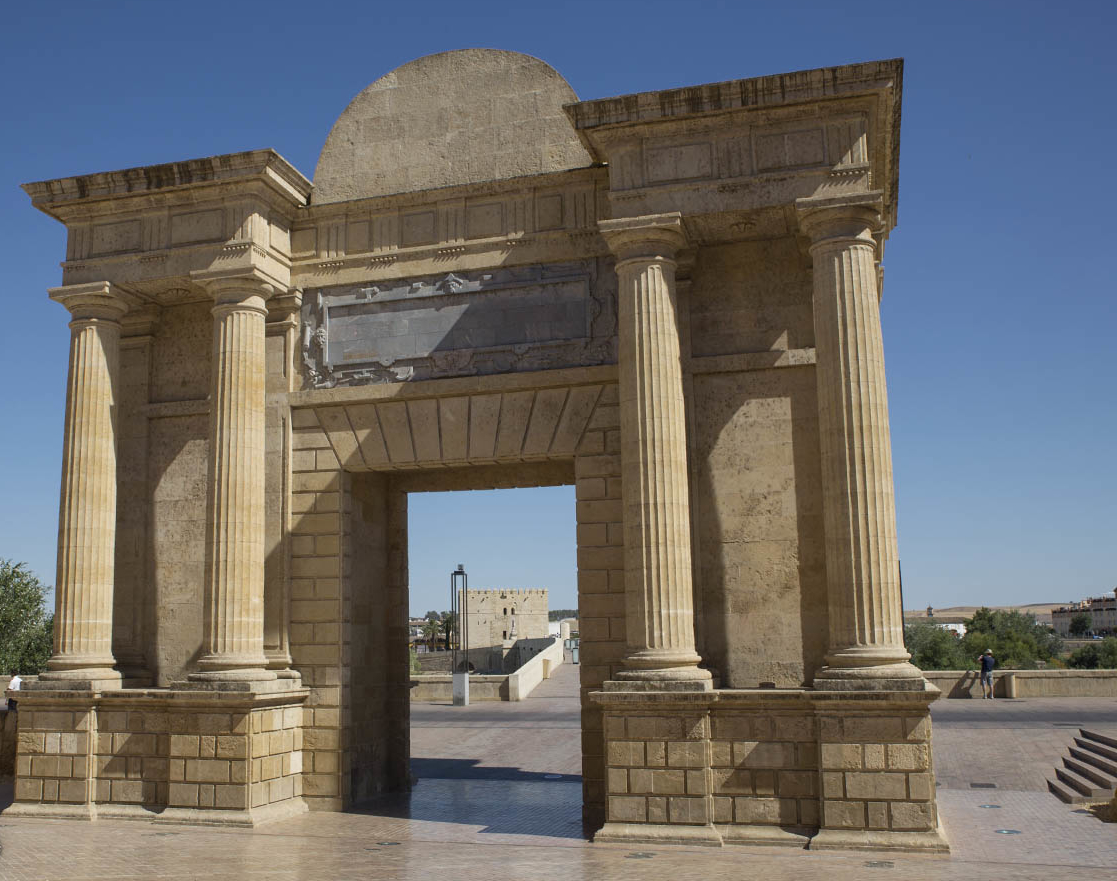vano-adintelado: (299, 423, 626, 823)
